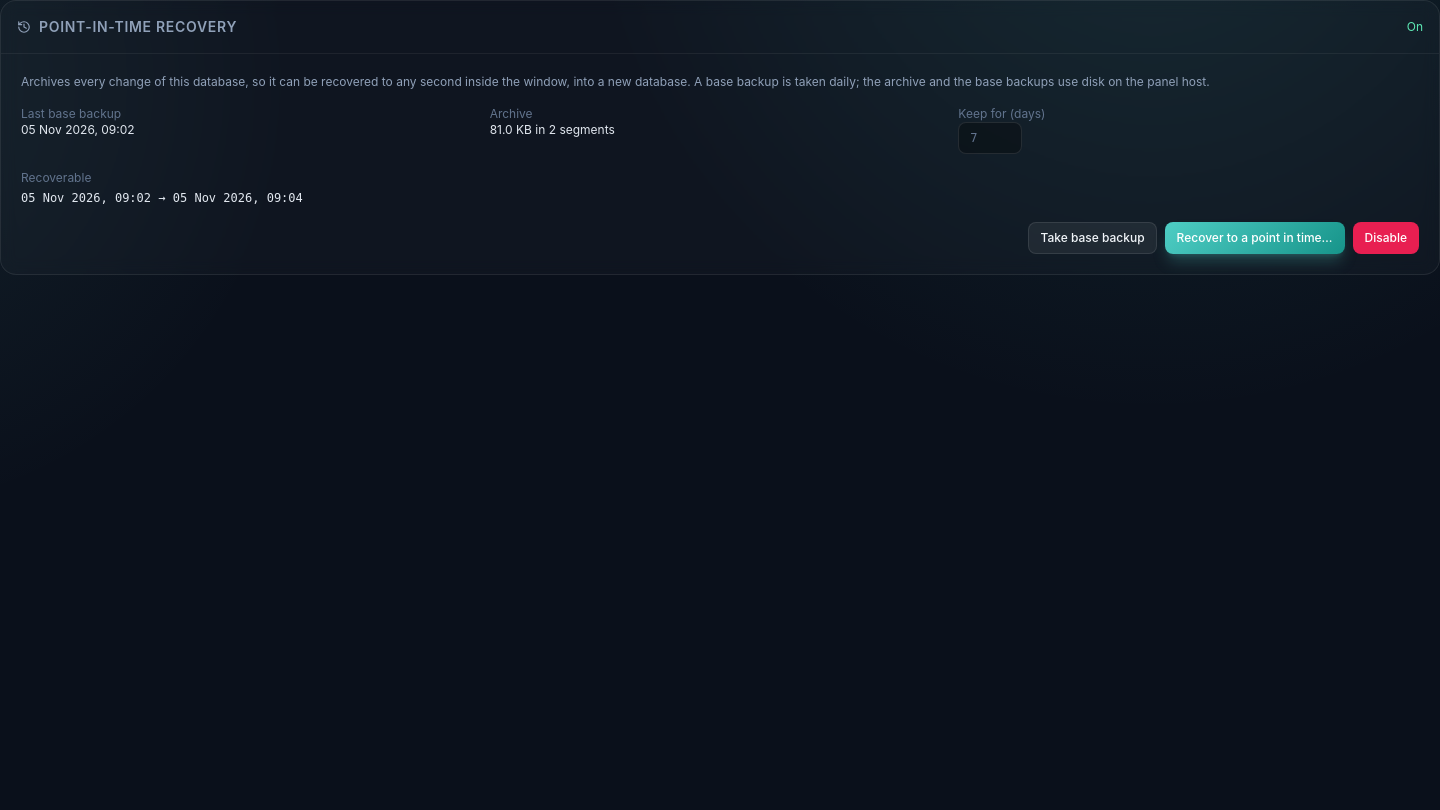
it: PitrCard › saves a new retention and reports a failed change
Type "21" into the field named "Keep for (days)". click: (990, 138)
box: [958,122,1022,154]
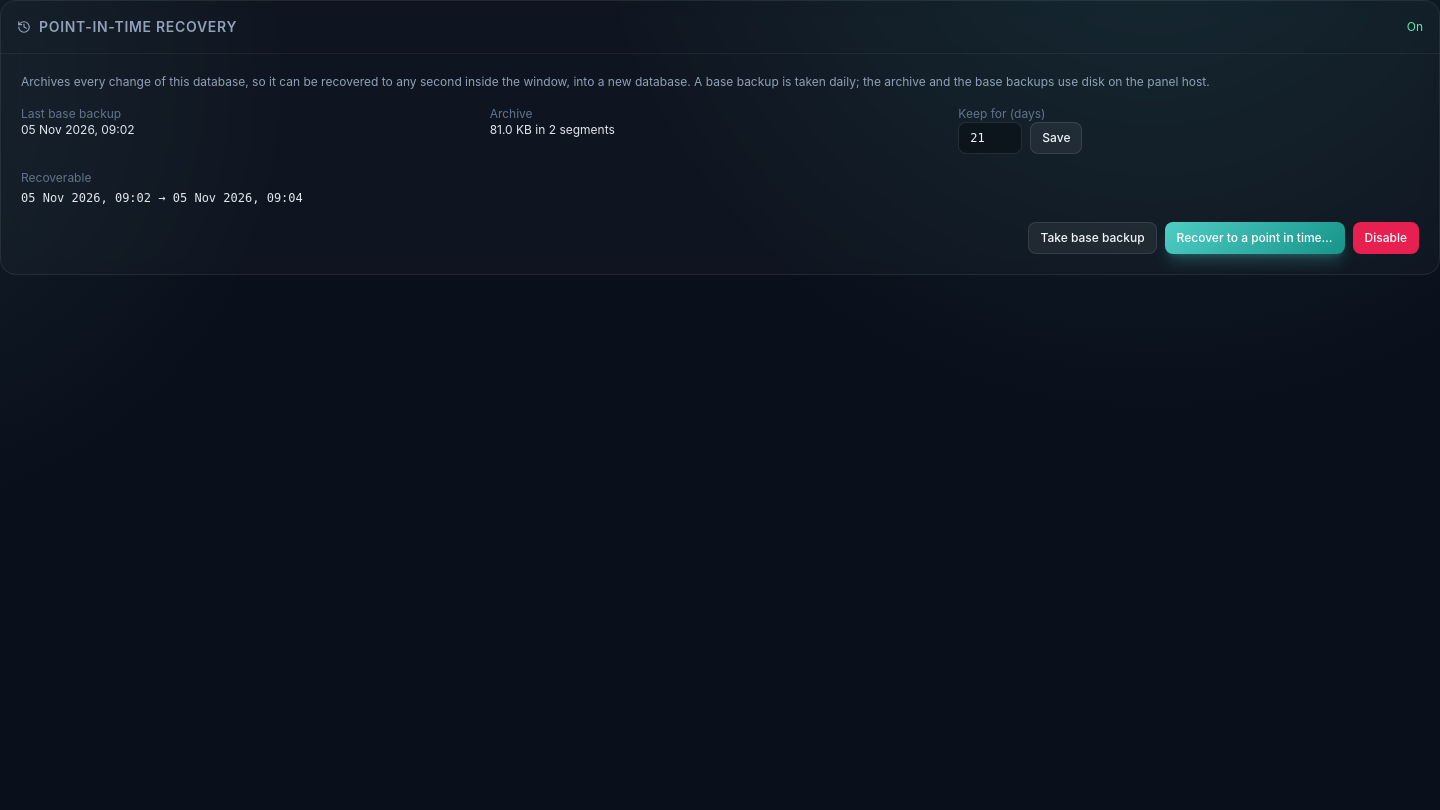
Click the button "Save". click: click(1056, 138)
box: [1030,122,1082,154]
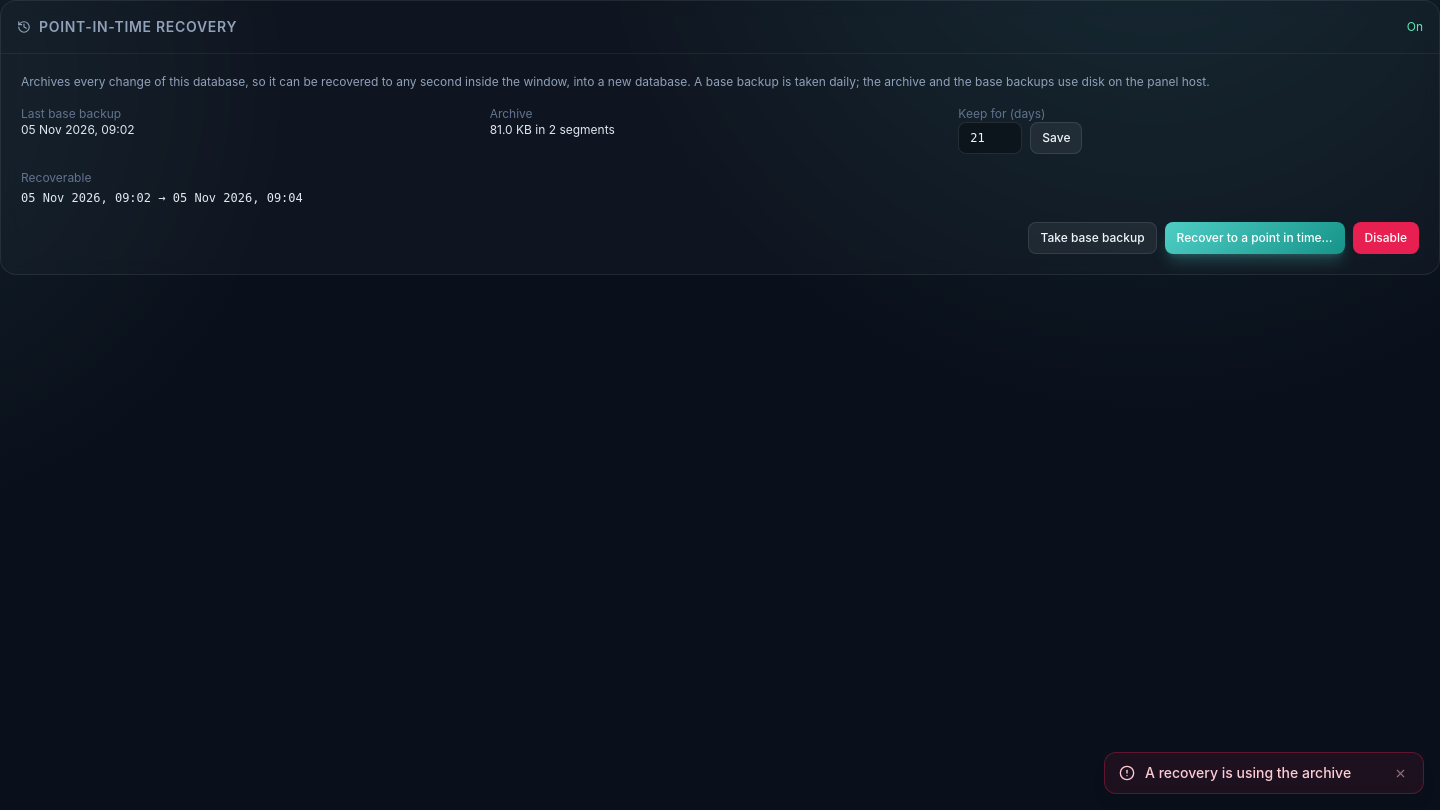
Now the text "A recovery is using the archive" is shown, box [1145,763,1382,783]
